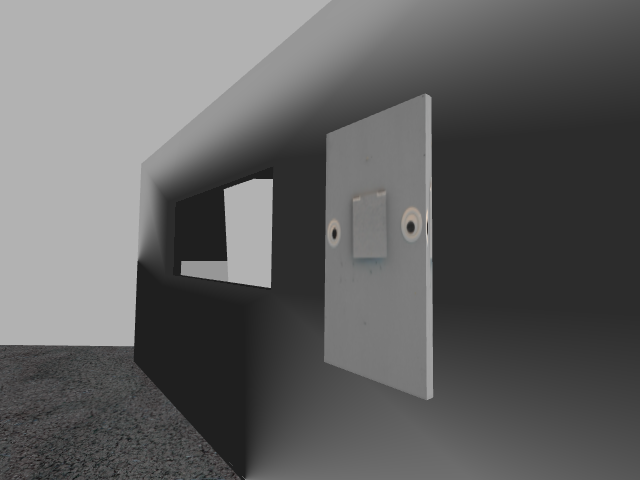facade: (325, 186, 423, 268)
